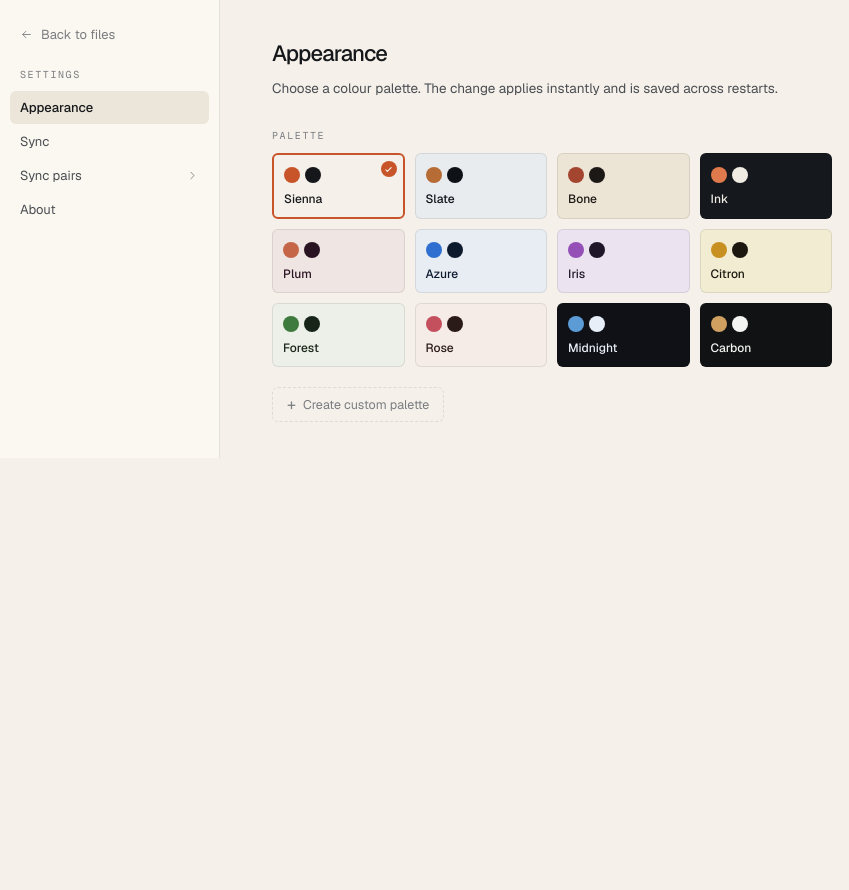
Test: SettingsScene › shows Resume button when paused
The width and height of the screenshot is (849, 890).
Click the button "Sync": (110, 141) [10,124,209,158]
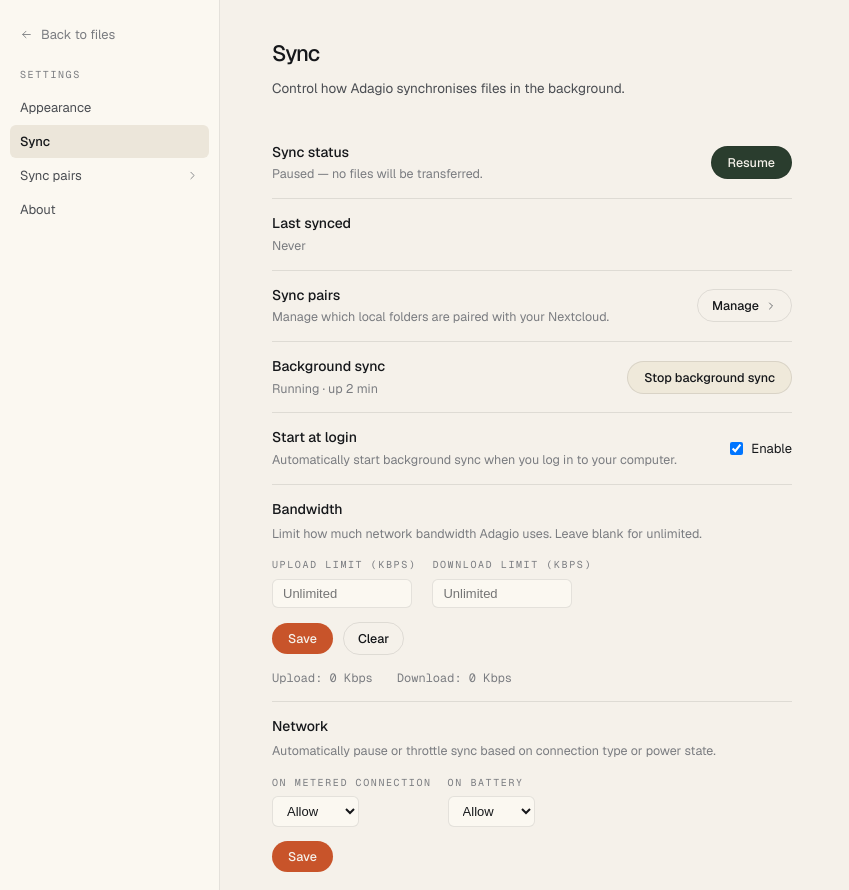
Now the button "Resume" is shown, box [711,146,792,179]
